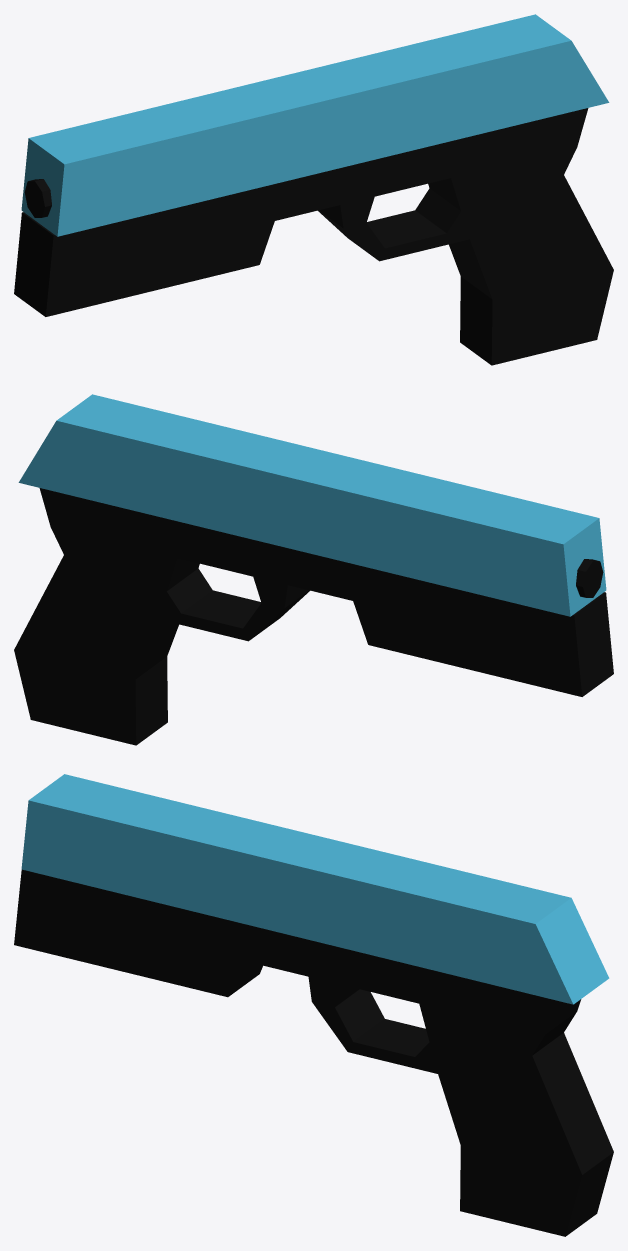
The model's file is wepon anime_.FBX.
3 views of the same model, one above another, from view 1: azimuth 30°, elevation 25°; view 2: azimuth 150°, elevation 25°; view 3: azimuth 330°, elevation 25° (orthographic).
Visible parts, largest first — view 1: polySurface1, polySurface3; view 2: polySurface1, polySurface3; view 3: polySurface1, polySurface3.
Boxes of the visible parts, left/top/right/bottom form: polySurface1: left=14, top=108, right=613, bottom=365; polySurface3: left=21, top=14, right=609, bottom=236; polySurface1: left=14, top=488, right=613, bottom=745; polySurface3: left=18, top=394, right=606, bottom=616; polySurface1: left=14, top=869, right=613, bottom=1236; polySurface3: left=21, top=774, right=609, bottom=1004.
Size of the model in its own units: 1270 by 657 by 139.
